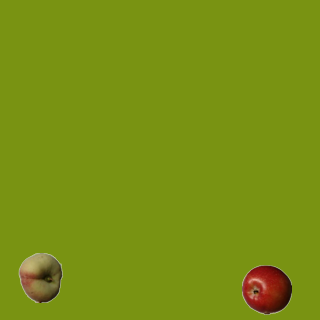Apple Braeburn: (241, 264, 291, 314)
Peach Flat: (15, 252, 65, 302)
